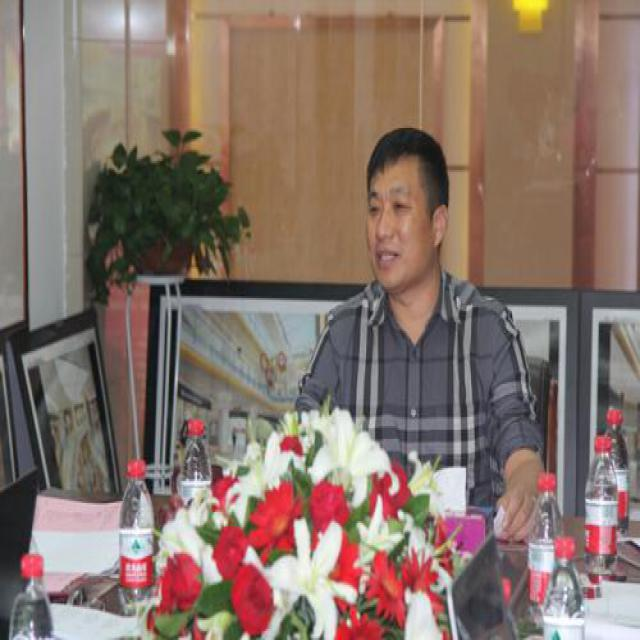head: (361, 113, 449, 297)
person: (296, 110, 545, 538)
